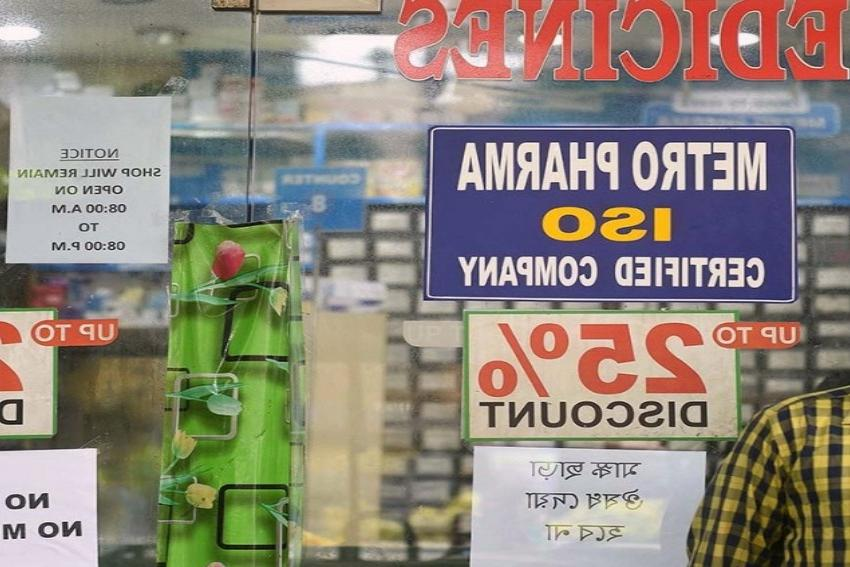mask_weared_incorrect: (848, 242, 850, 406)
